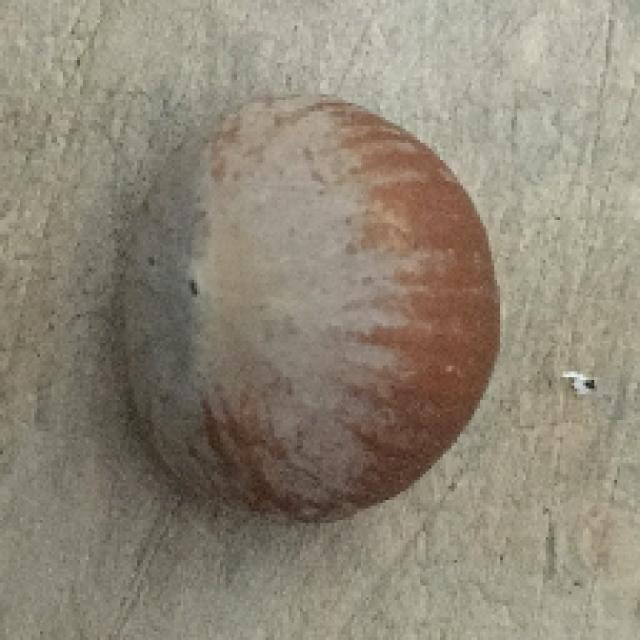QualityHazelnut: (127, 95, 505, 526)
